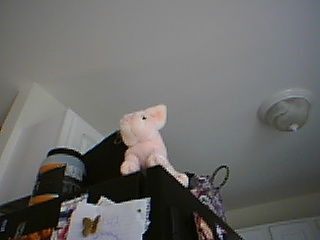piggy: (118, 103, 191, 189)
